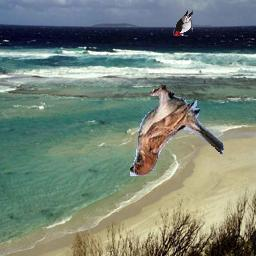Sparrow: (130, 84, 224, 176)
Woodpecker: (173, 10, 193, 36)
